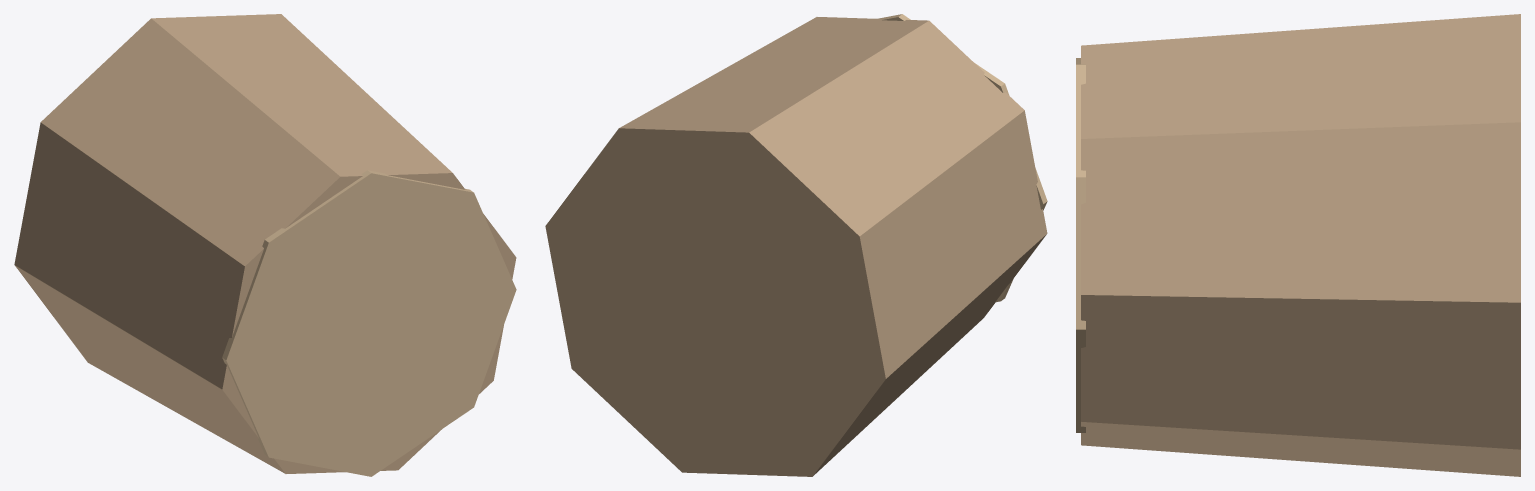
File: stump_old.glb
3 views of the same model, side by side, from view 1: azimuth 30°, elevation 25°; view 2: azimuth 150°, elevation 25°; view 3: azimuth 270°, elevation 25° (orthographic). The views are drawn at different scales.
Visible parts, largest first — view 1: stump_old_bark, stump_old_bark_light; view 2: stump_old_bark, stump_old_bark_light; view 3: stump_old_bark, stump_old_bark_light.
Part boxes in pixels (x1,y1,x2,y2): stump_old_bark: (14,14,516,473); stump_old_bark_light: (222,170,516,476); stump_old_bark: (545,17,1047,476); stump_old_bark_light: (877,14,1047,302); stump_old_bark: (1081,14,1520,476); stump_old_bark_light: (1076,58,1085,432).
Size of the model in its own units: 0.7556 by 0.7556 by 0.718.
